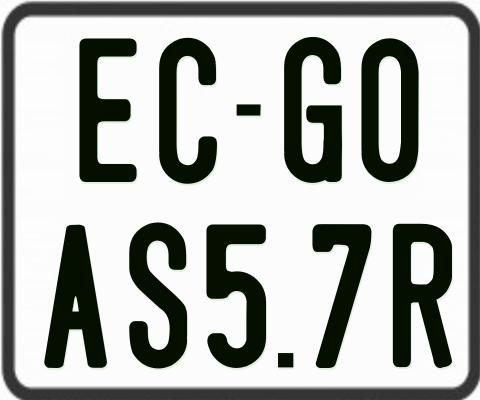0: (358, 37, 421, 184)
5: (204, 224, 270, 374)
7: (312, 224, 377, 370)
A: (42, 222, 105, 369)
C: (156, 38, 219, 184)
E: (79, 38, 142, 186)
G: (282, 37, 345, 187)
R: (391, 221, 456, 368)
S: (128, 222, 186, 368)
